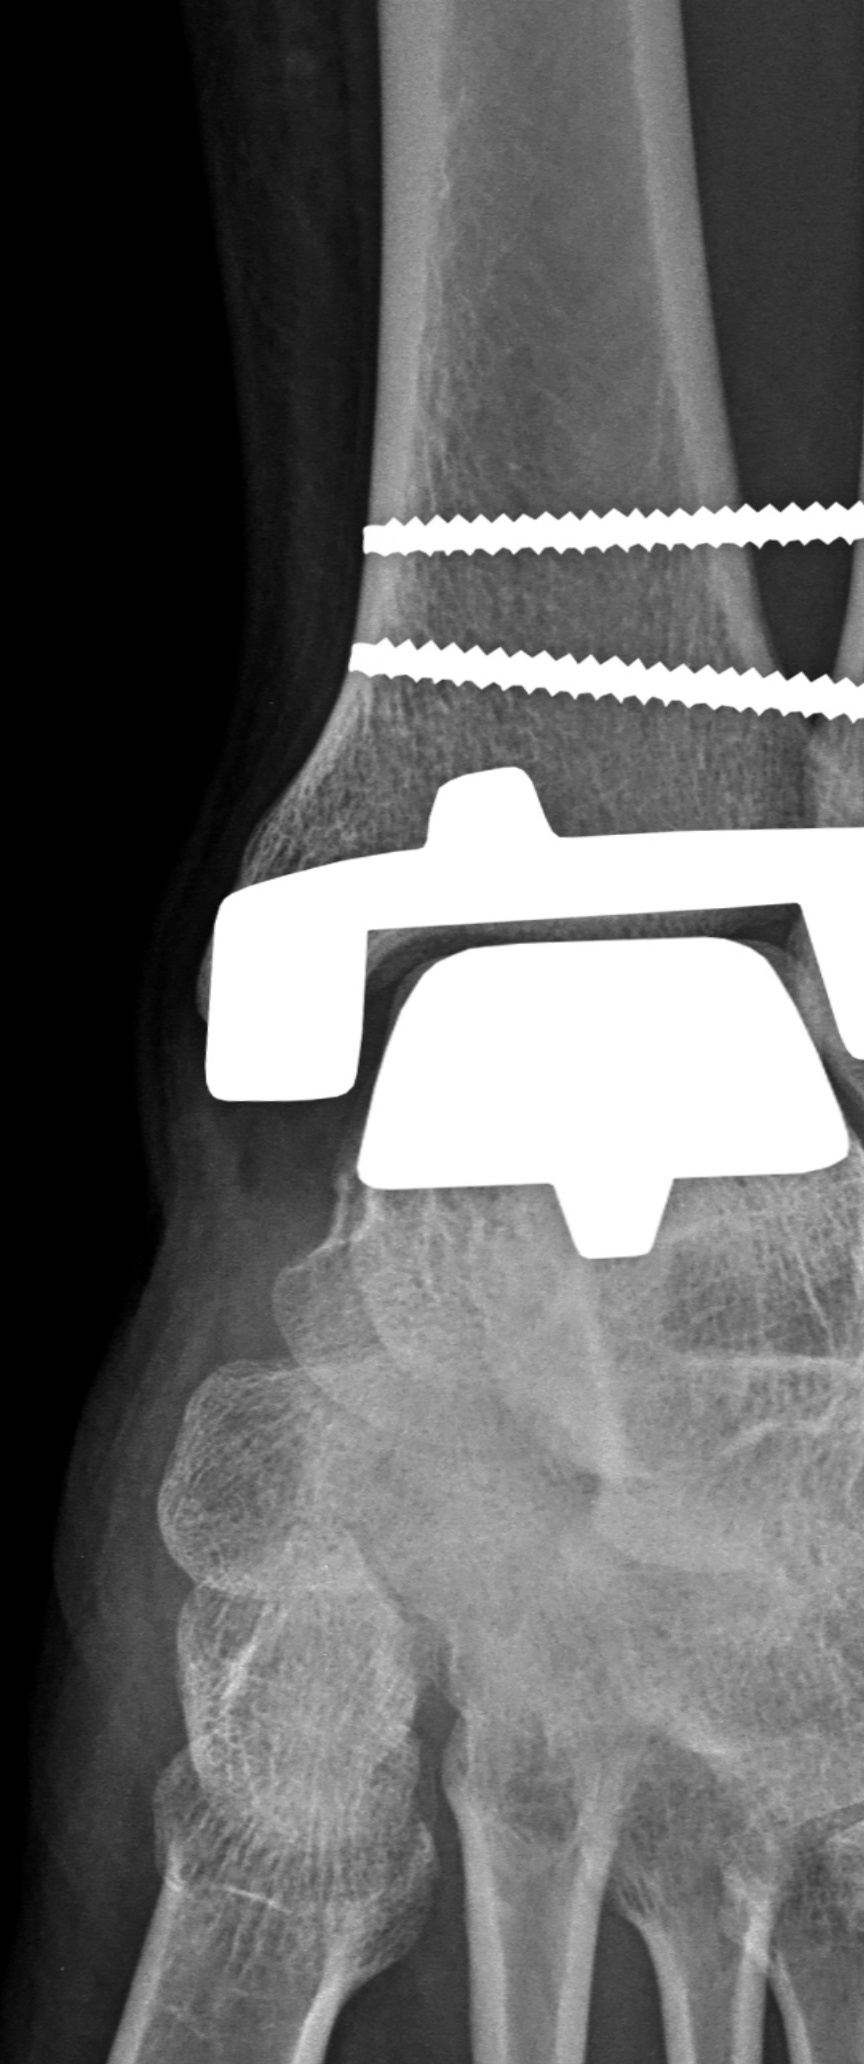Agility-Depuy: (148, 474, 864, 1264)
